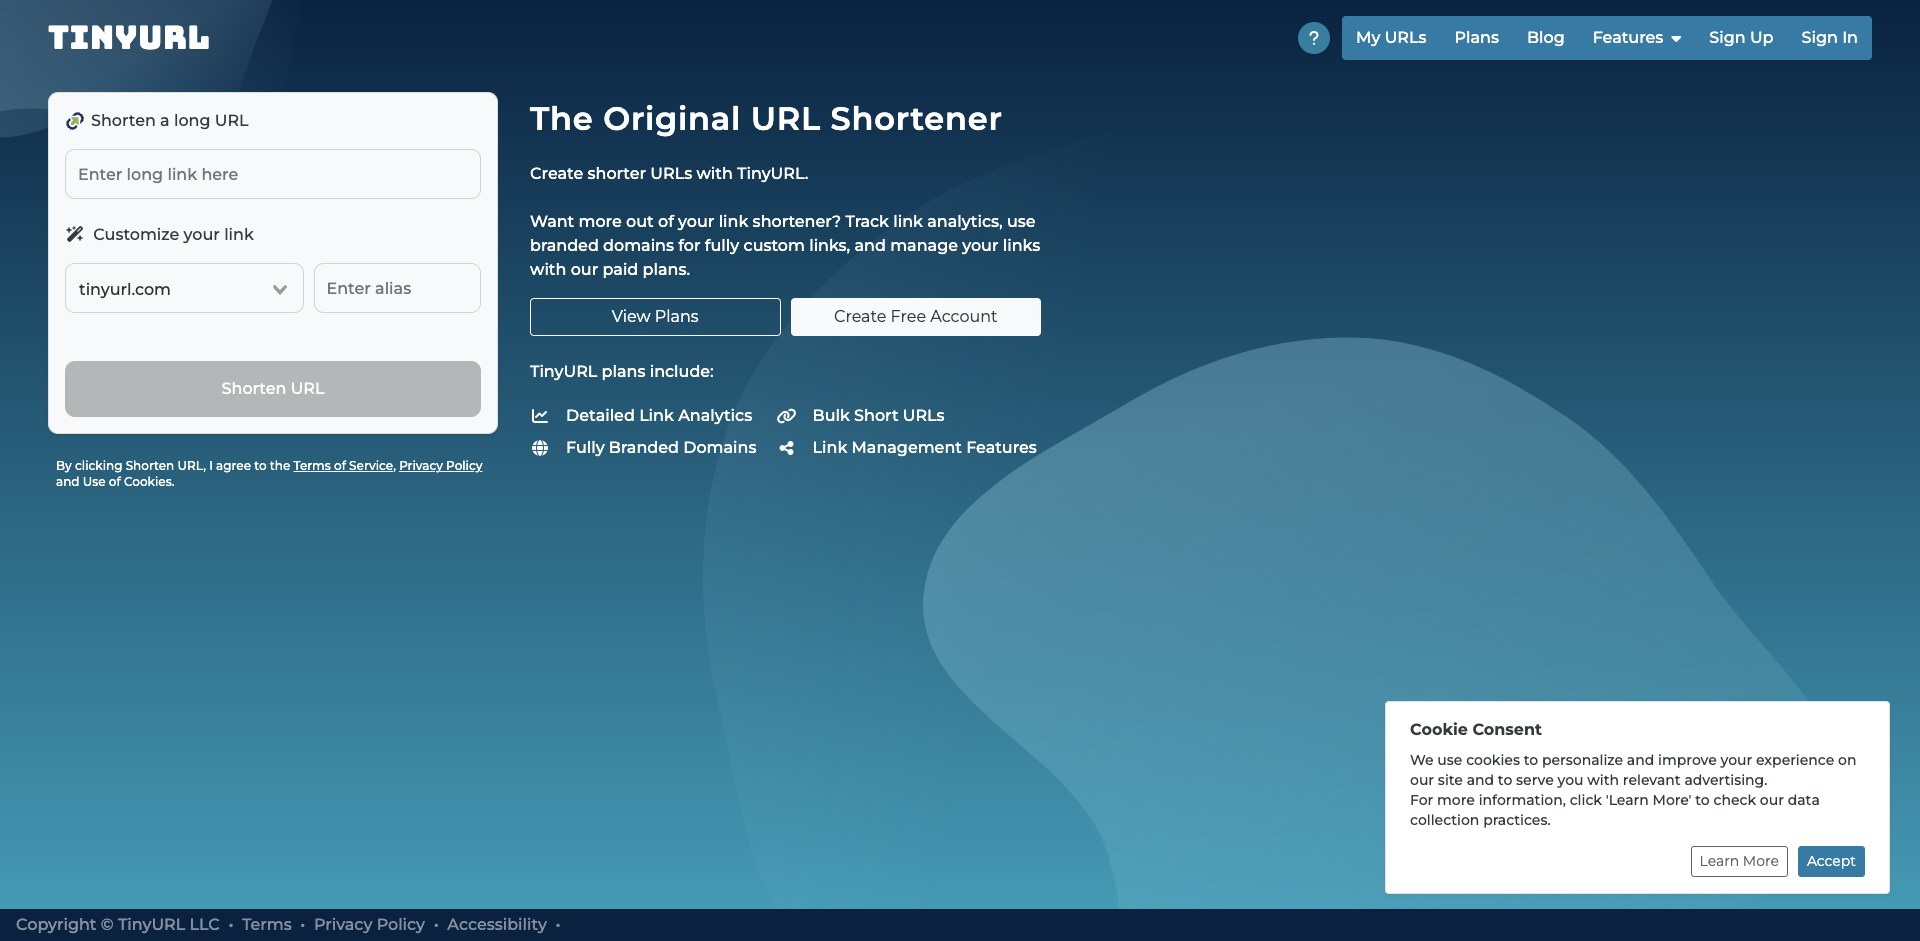button: (65, 361, 481, 418), (530, 299, 780, 337), (791, 299, 1041, 337), (1342, 16, 1440, 60), (1696, 16, 1788, 60), (569, 913, 707, 937), (1440, 16, 1513, 60), (1691, 845, 1788, 877), (1513, 16, 1578, 60), (1798, 845, 1865, 877), (1298, 22, 1330, 54)
dropdown: (65, 263, 304, 314)
icon: (776, 408, 797, 424)
input: (65, 149, 481, 198), (313, 263, 481, 312), (266, 278, 267, 303)
label: (65, 109, 481, 134), (65, 223, 253, 248)
link: (48, 16, 211, 60), (1578, 16, 1696, 60), (1788, 16, 1872, 60), (313, 915, 430, 934), (447, 915, 551, 934), (294, 458, 393, 473), (399, 458, 482, 473), (242, 915, 296, 934)
